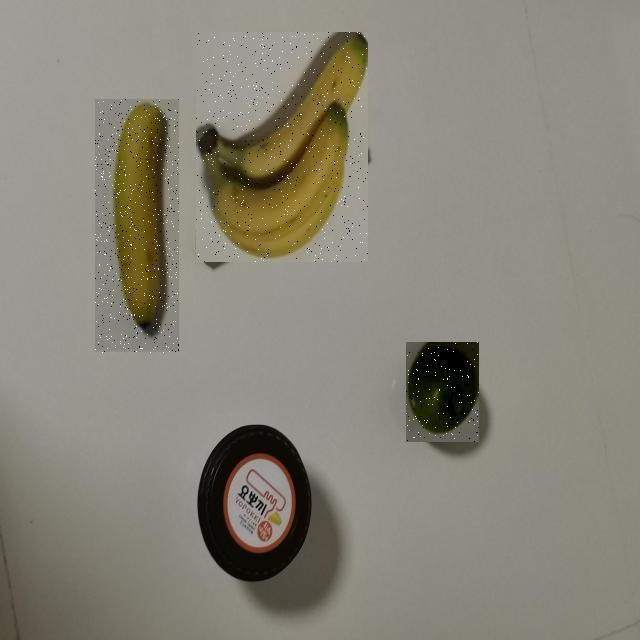Apple: (406, 342, 479, 442)
Banana: (197, 32, 369, 262), (95, 100, 179, 354)
